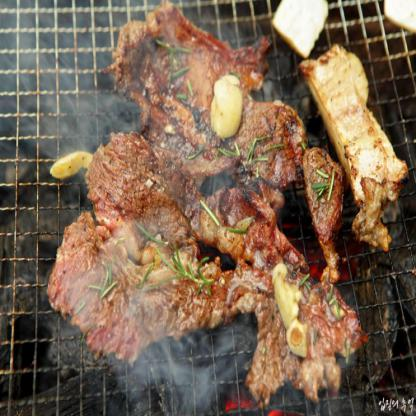Carne: (111, 13, 297, 183), (50, 211, 228, 360), (88, 129, 272, 258)
